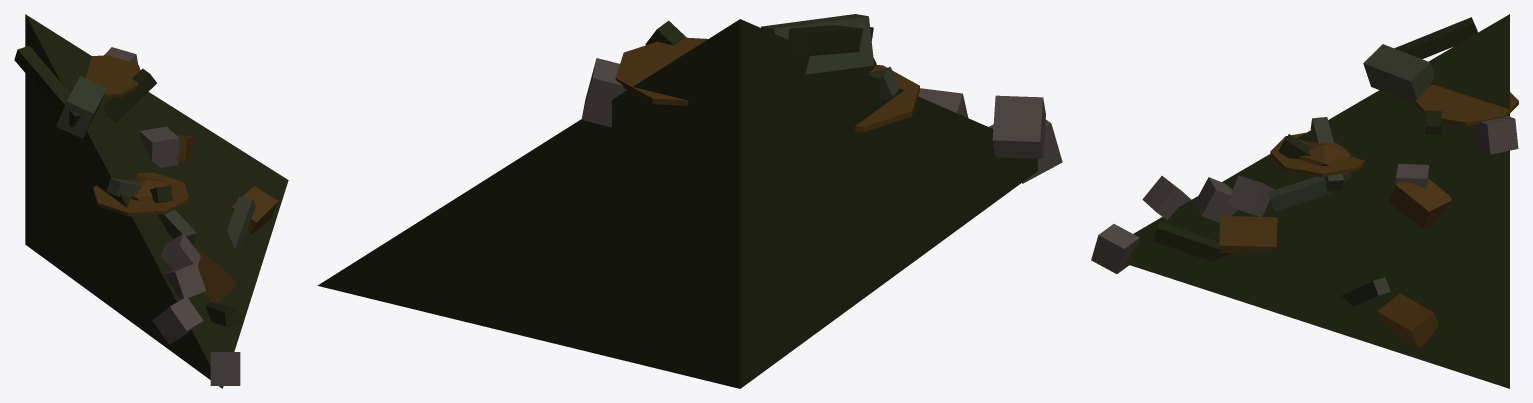
The model's file is SM_PilaZombi_RemateDer_Altura4_s2_LOD1.fbx.
The picture shows the model from 3 angles, left to right: view 1: azimuth 30°, elevation 25°; view 2: azimuth 150°, elevation 25°; view 3: azimuth 270°, elevation 25°; orthographic projection. The views are drawn at different scales.
Visible parts, largest first — view 1: SM_pila_zombis_v13_LOD1; view 2: SM_pila_zombis_v13_LOD1; view 3: SM_pila_zombis_v13_LOD1.
Part boxes in pixels (bbox=[...]): SM_pila_zombis_v13_LOD1: bbox=[14, 14, 288, 388]; SM_pila_zombis_v13_LOD1: bbox=[317, 14, 1062, 388]; SM_pila_zombis_v13_LOD1: bbox=[1091, 14, 1518, 388].
Bounding box in the file's own units: 2.73 × 2.1 × 3.3.
